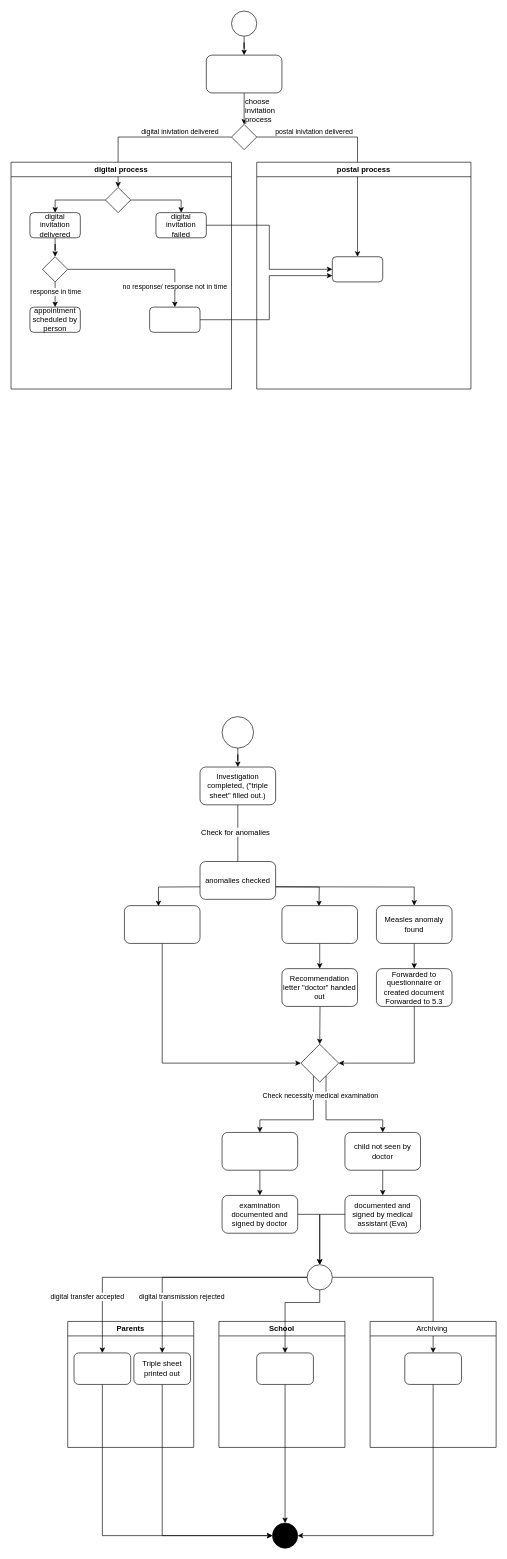
The diagram is 507 pixels wide and 1559 high, and some of its shapes have lost their labels. Here are the shapes that lost their labels. From the top down, the centre of each, then its label:
At point (244, 73): "Person created".
At point (357, 269): "appointment delivered by staff".
At point (174, 319): "invitation overdue".
At point (162, 924): "No anomalies found".
At point (319, 924): "hearing/ vision anomaly found".
At point (259, 1151): "child seen by doctor".
At point (102, 1368): "Triple sheet sent via Mail".
At point (284, 1368): "Triple sheet provided for download".
At point (432, 1368): "File saved".
